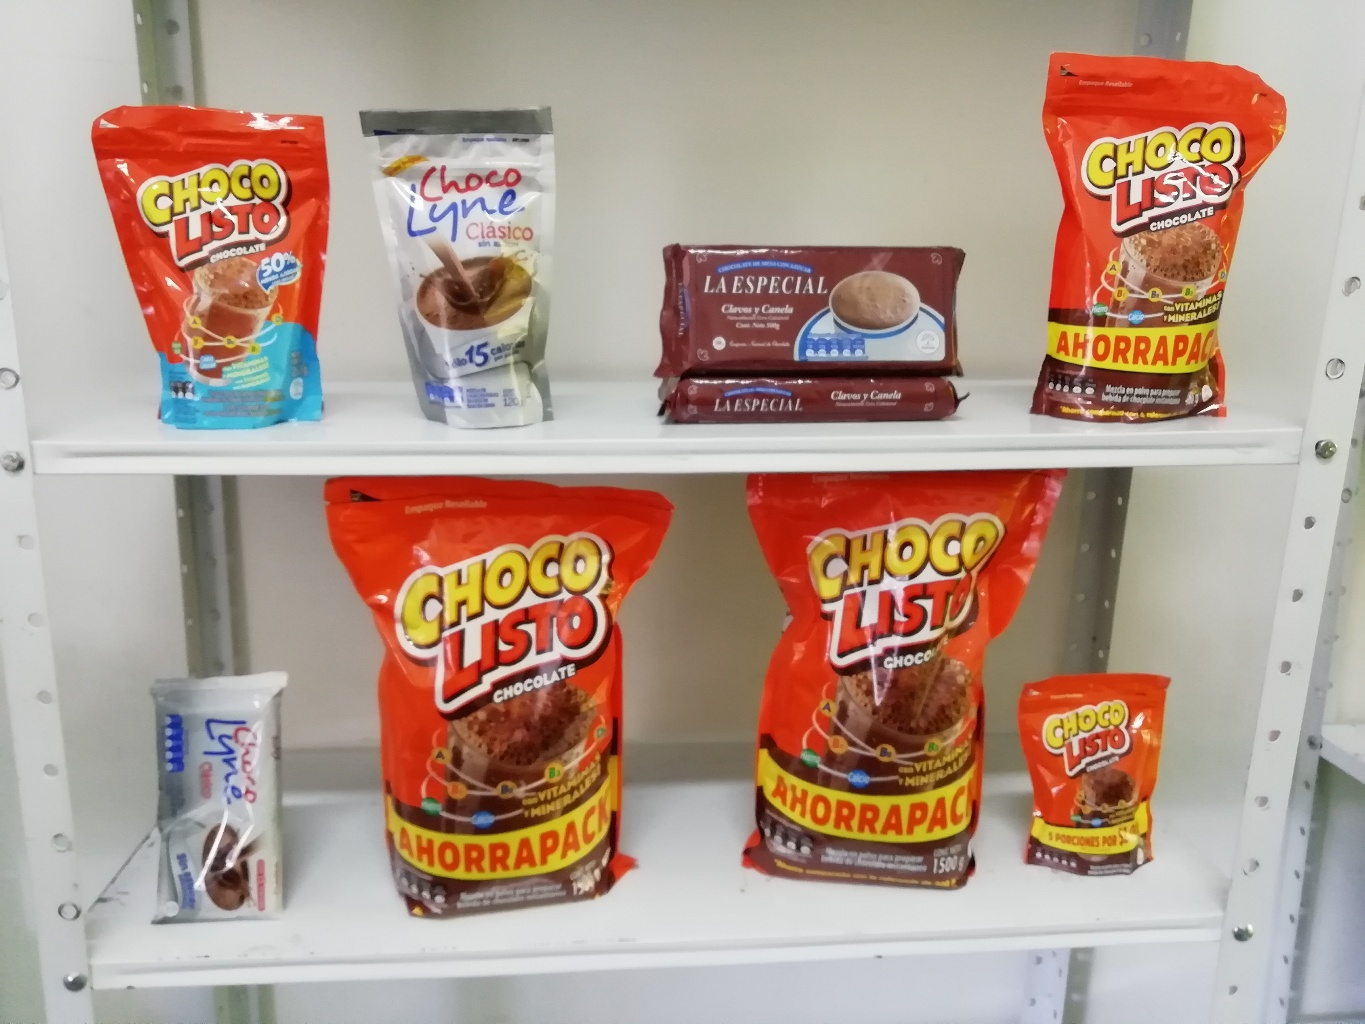COL0170103DYP1,500: (311, 472, 668, 919)
COL0170103DYP36000: (1030, 34, 1295, 432)
COL0170104DYP20000: (68, 87, 349, 438)
